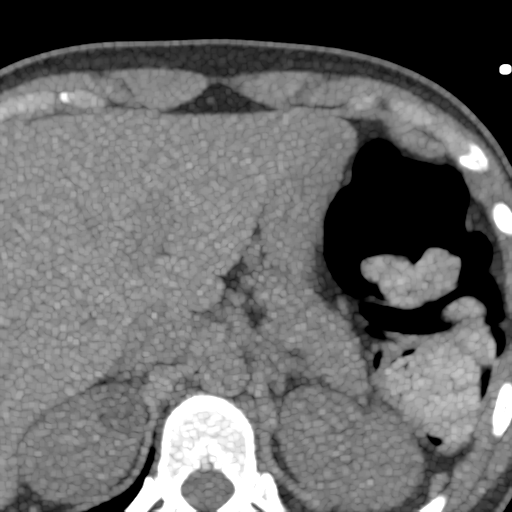Lesion: (95, 383, 149, 437)
